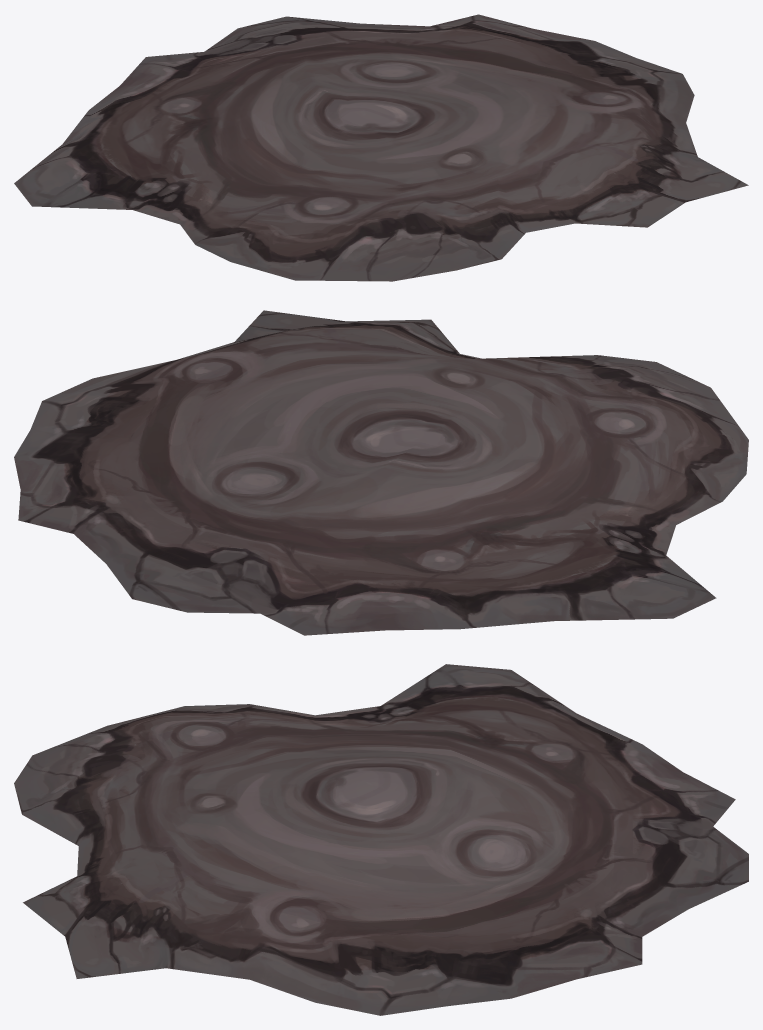
The model's file is MUDDY.fbx.
The picture shows the model from 3 angles, top to bottom: view 1: azimuth 30°, elevation 25°; view 2: azimuth 150°, elevation 25°; view 3: azimuth 270°, elevation 25°; orthographic projection. The views are drawn at different scales.
Visible parts, largest first — view 1: Fucking_Mud_Shit; view 2: Fucking_Mud_Shit; view 3: Fucking_Mud_Shit.
Part boxes in pixels (x1,y1,x2,y2): Fucking_Mud_Shit: (14,14,748,281); Fucking_Mud_Shit: (14,310,748,635); Fucking_Mud_Shit: (14,664,748,1015).
Bounding box in the file's own units: 534 × 41.65 × 470.
